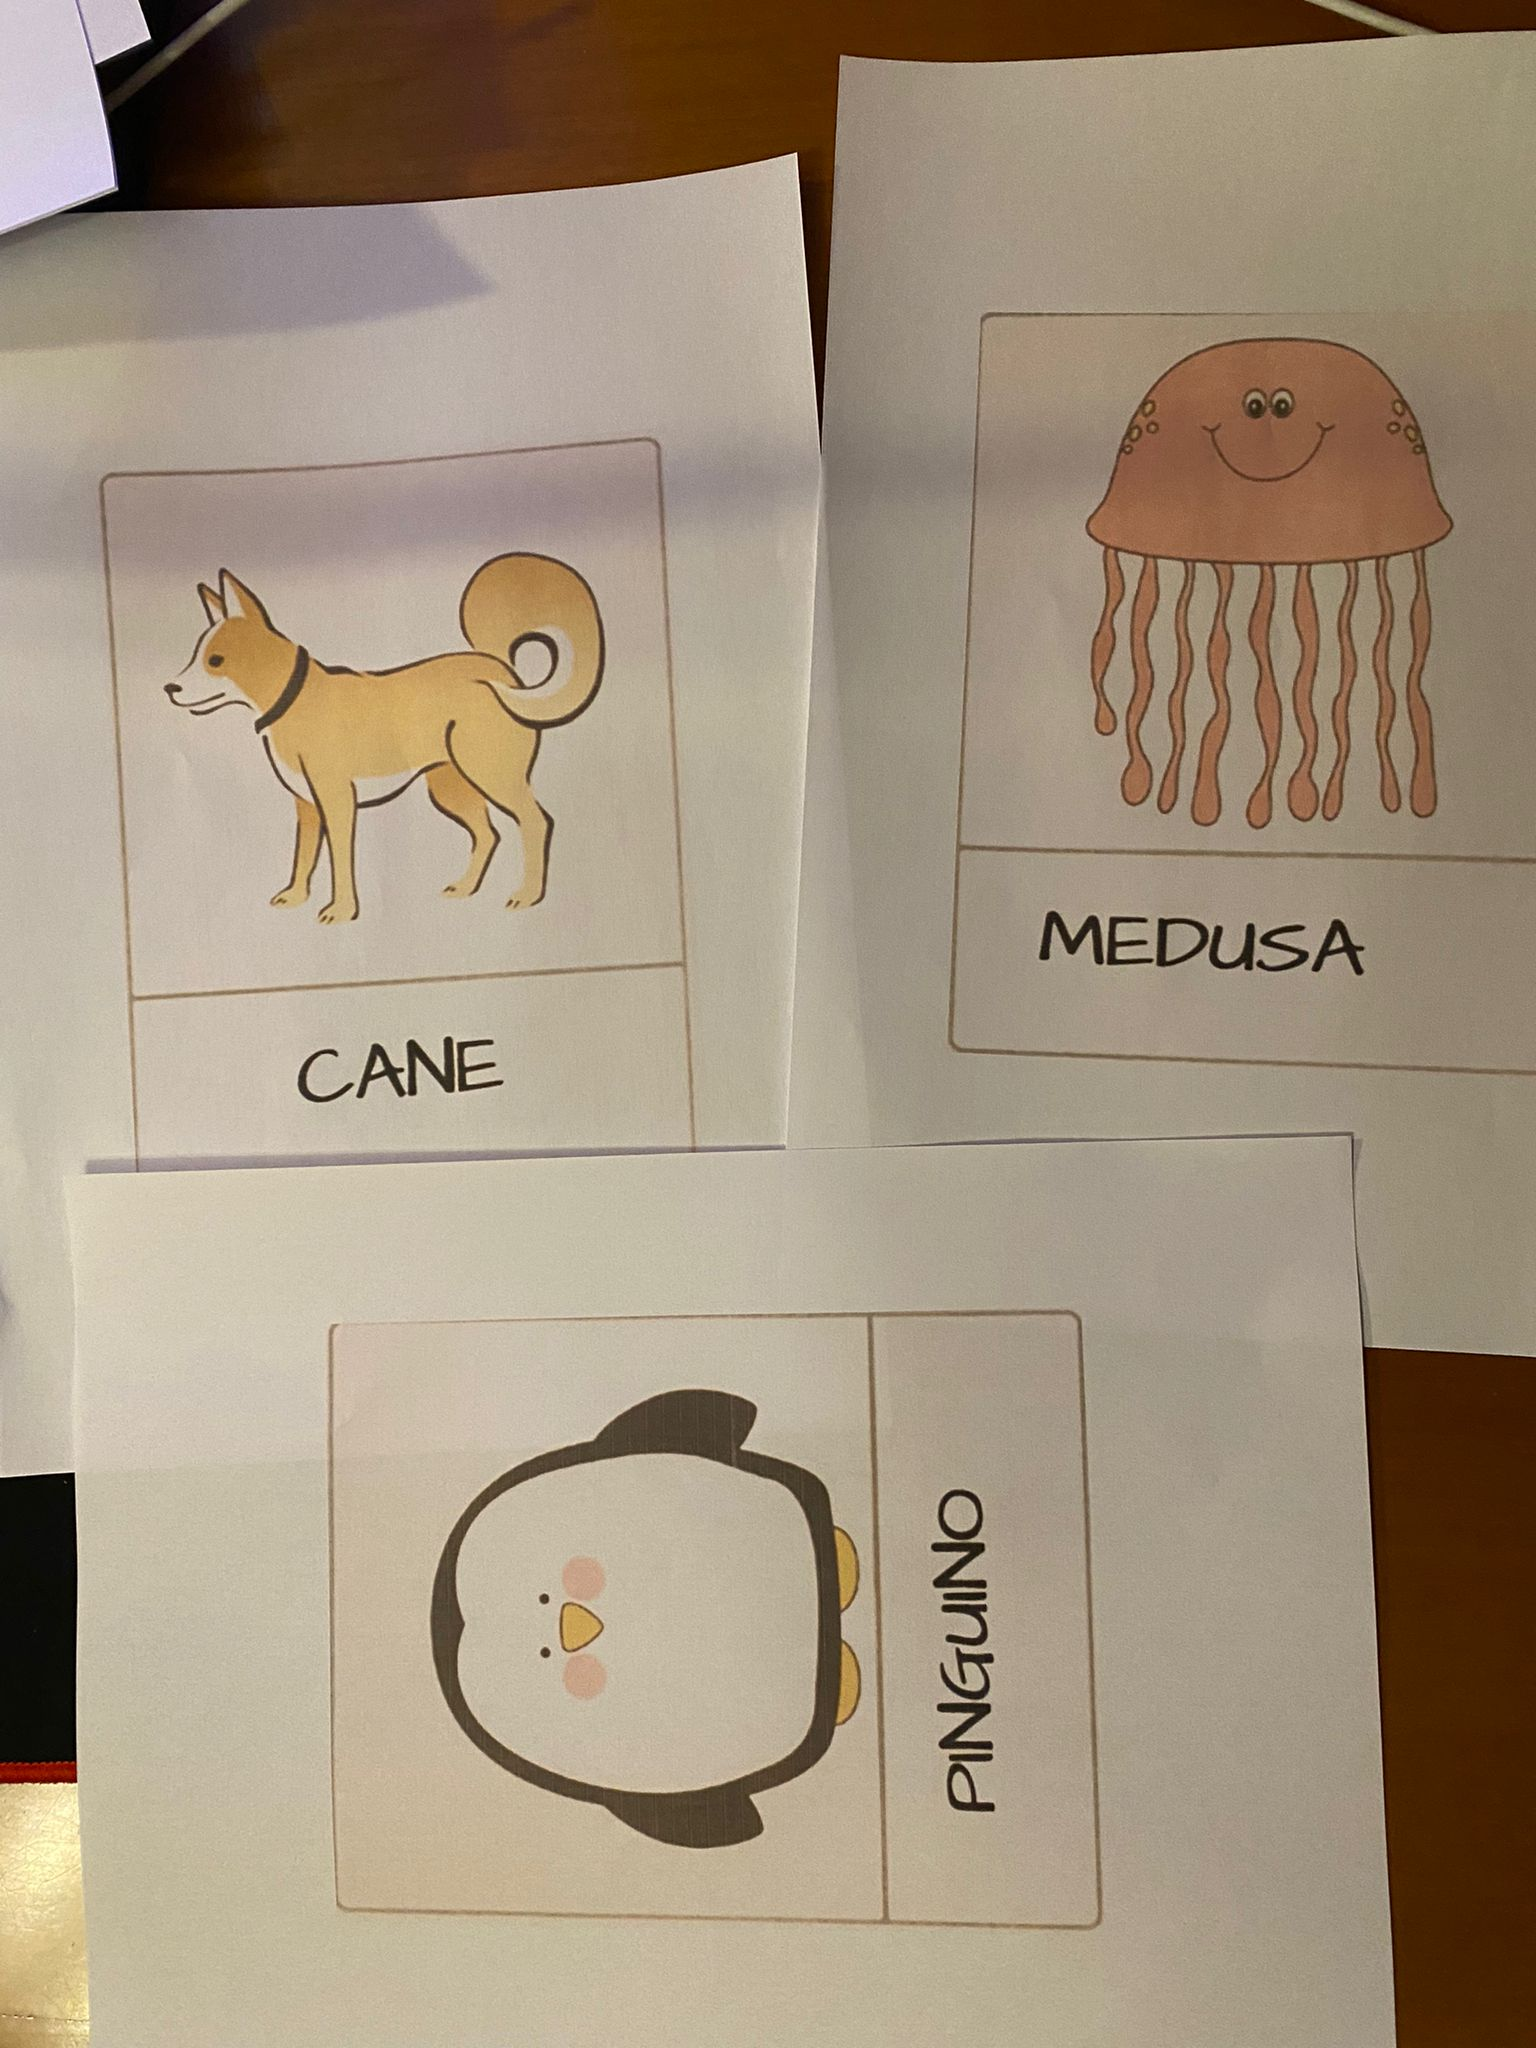cane: (105, 481, 665, 1166)
medusa: (978, 341, 1488, 1045)
pinguino: (329, 1326, 1084, 1892)
